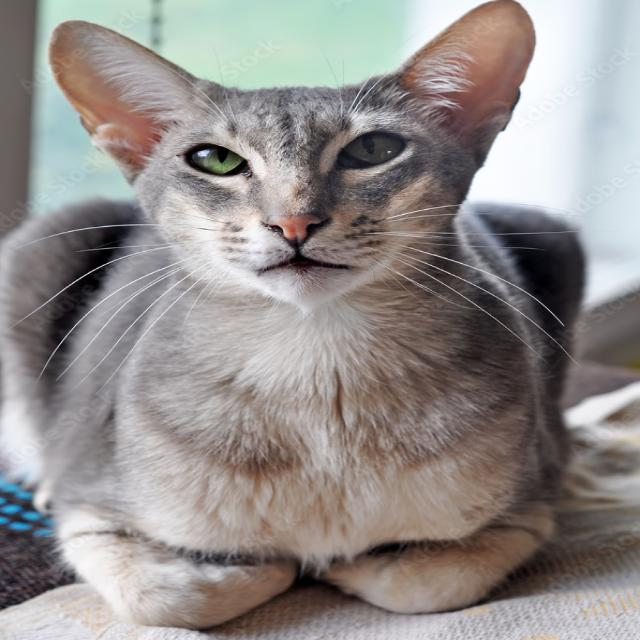Oriental: (0, 0, 600, 631)
